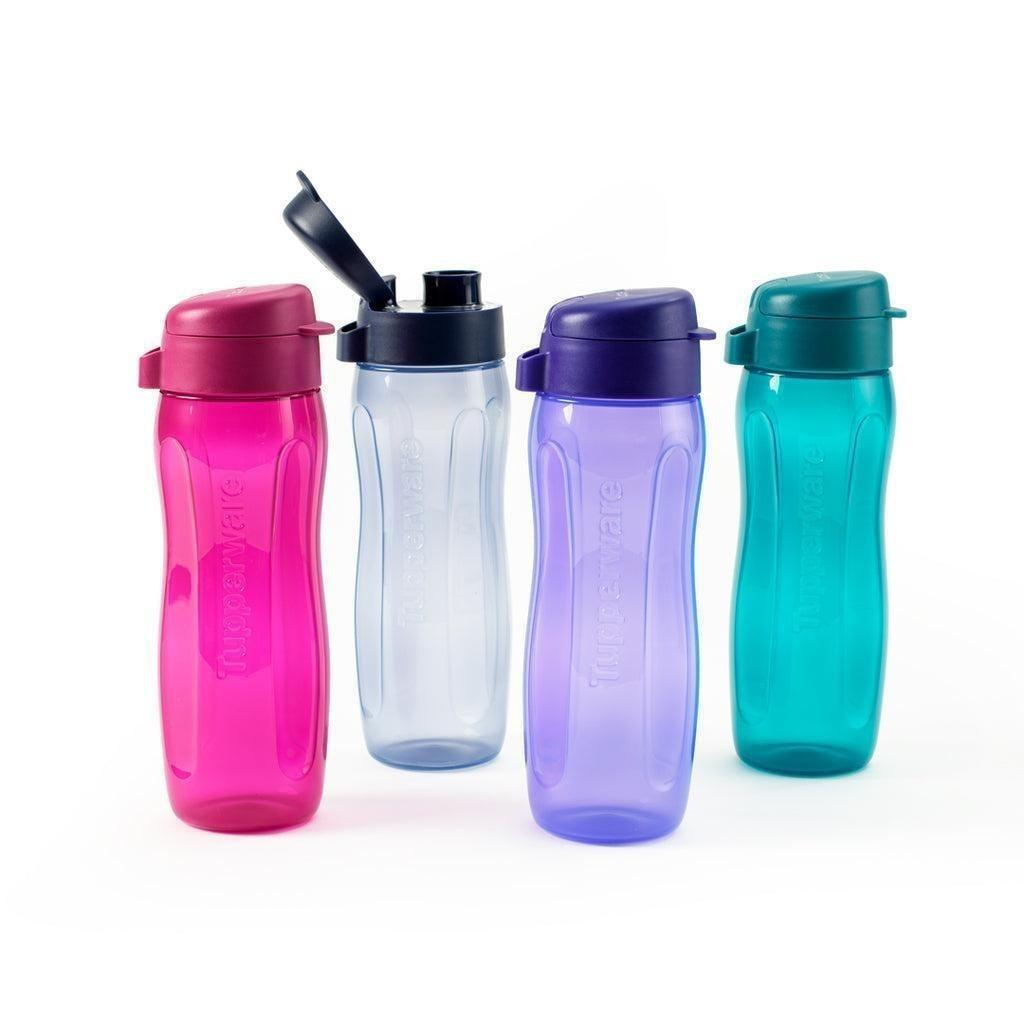gym bottle: (514, 280, 712, 849), (142, 277, 341, 839), (718, 267, 903, 781), (342, 262, 514, 776)
